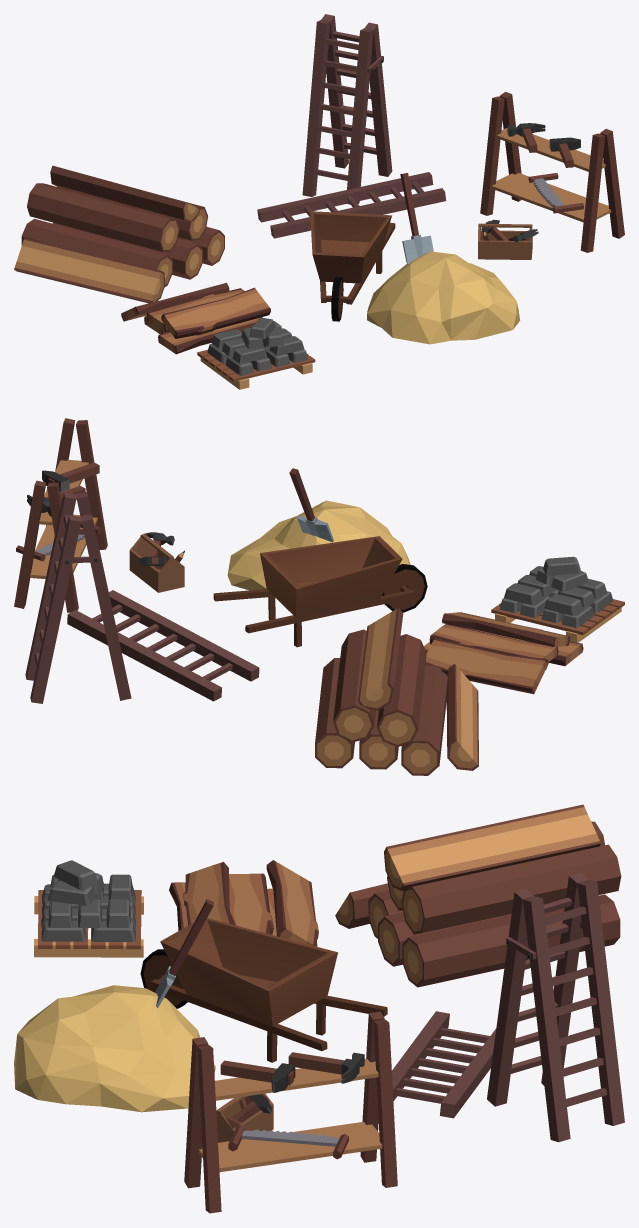
The model's file is construction_buildings.fbx.
3 views of the same model, one above another, from view 1: azimuth 30°, elevation 25°; view 2: azimuth 150°, elevation 25°; view 3: azimuth 270°, elevation 25° (orthographic). The views are drawn at different scales.
Parts seen in each view (by area): view 1: shovel.001, sand; view 2: shovel.001, sand; view 3: shovel.001, sand.
Part boxes in pixels (box(x1,y1,x2,y2)): shovel.001: box(14, 14, 624, 389); sand: box(367, 251, 520, 344); shovel.001: box(14, 418, 624, 775); sand: box(227, 500, 410, 590); shovel.001: box(34, 804, 624, 1213); sand: box(14, 985, 215, 1112).
Size of the model in its own units: 428 by 133 by 325.
